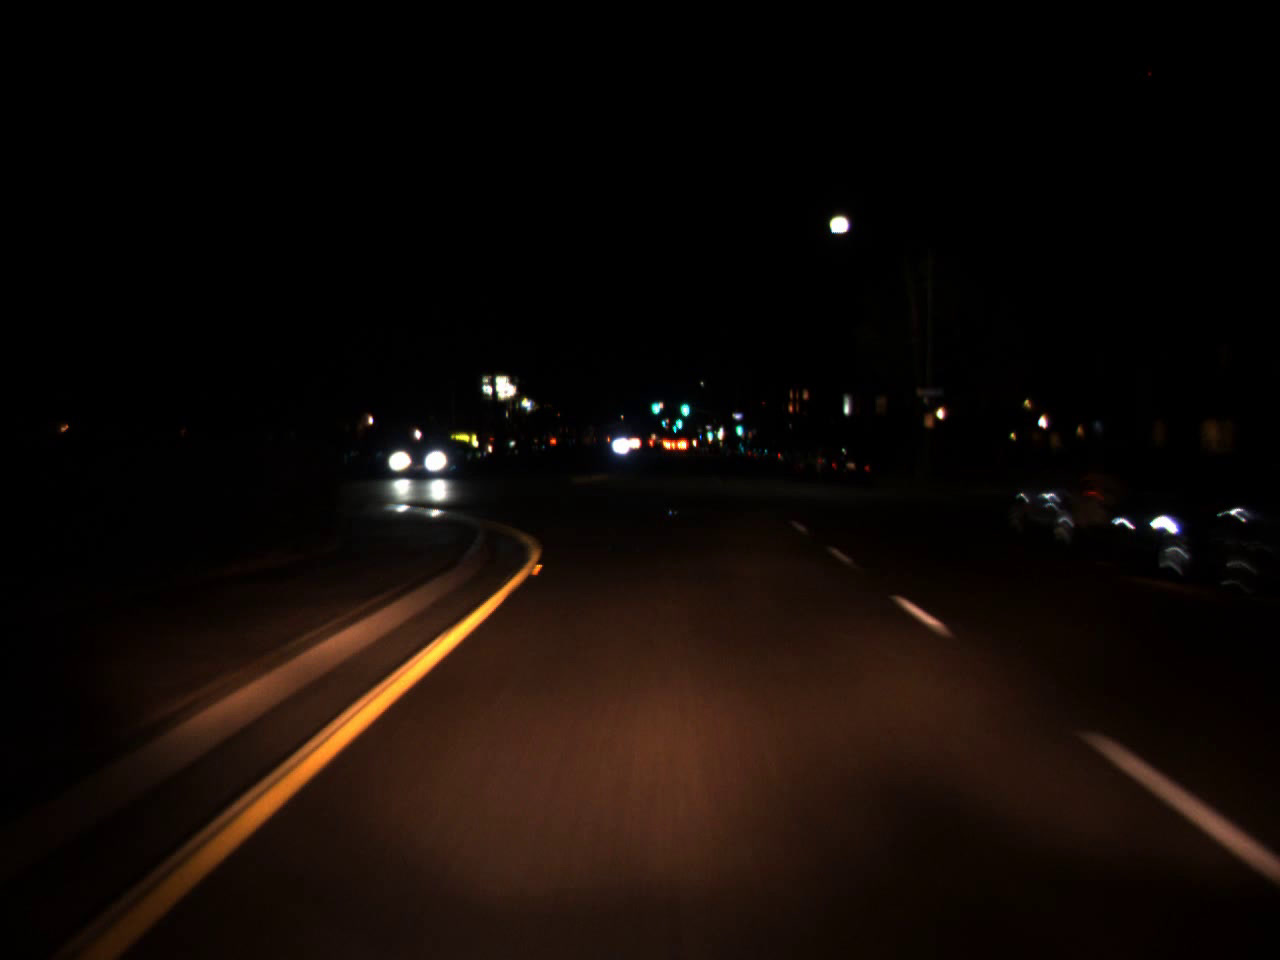go: (678, 388, 690, 421), (648, 389, 660, 419), (673, 409, 683, 430), (733, 418, 743, 436), (706, 423, 713, 441), (659, 416, 666, 428)
